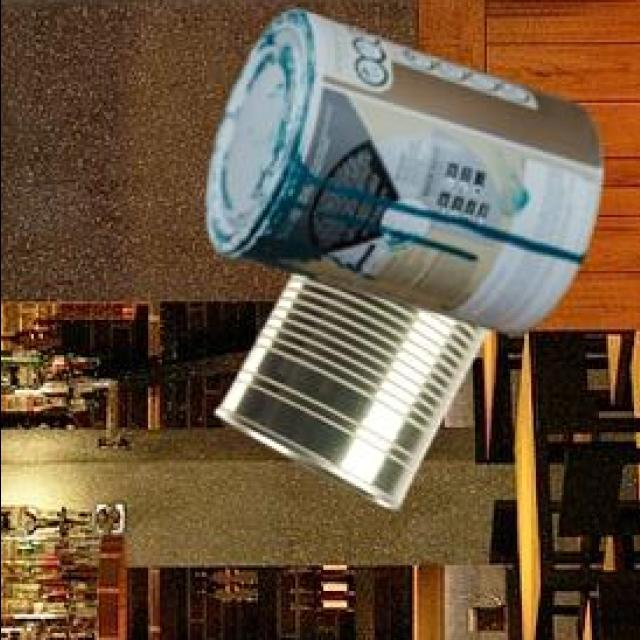logam: (202, 13, 599, 338), (211, 277, 485, 510)
